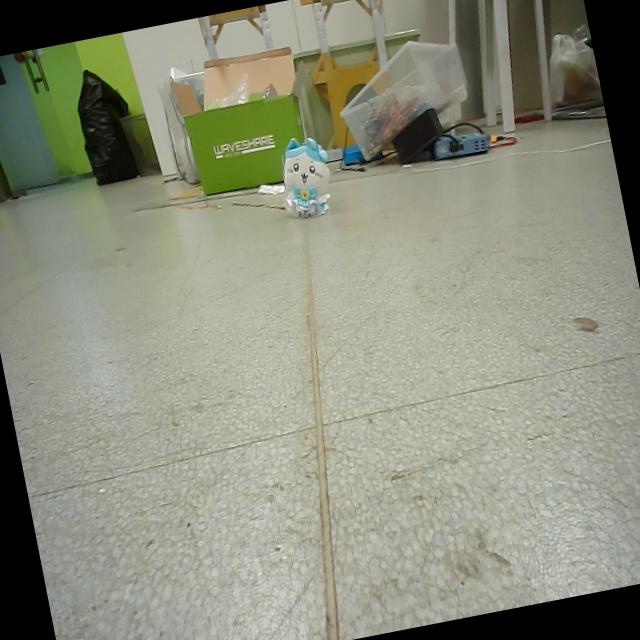xiaoba: (274, 131, 339, 222)
